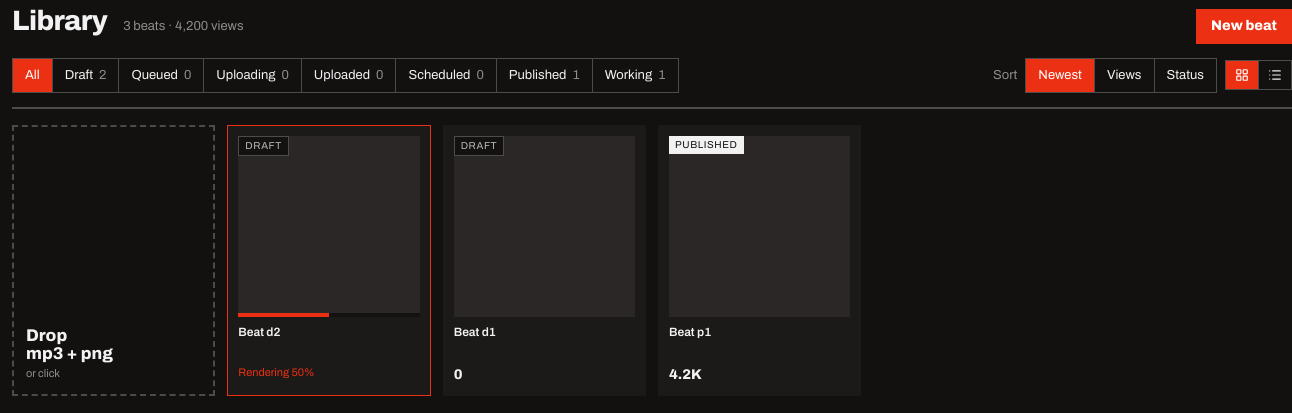
the status filter carries its counts and narrows the grid
expect the radio button labelled "Draft 2" is shown: met, box [52,59,118,92]
expect the number of links "Draft Beat d2 Rendering 50%" is 3: met, box [227,125,431,396]; [443,125,646,396]; [658,125,861,396]
What coordinates should you click on to do the following:
click the 1st radio button labelled "Working 1"
I would click on:
 (635, 75)
Its box is [592,59,678,92].
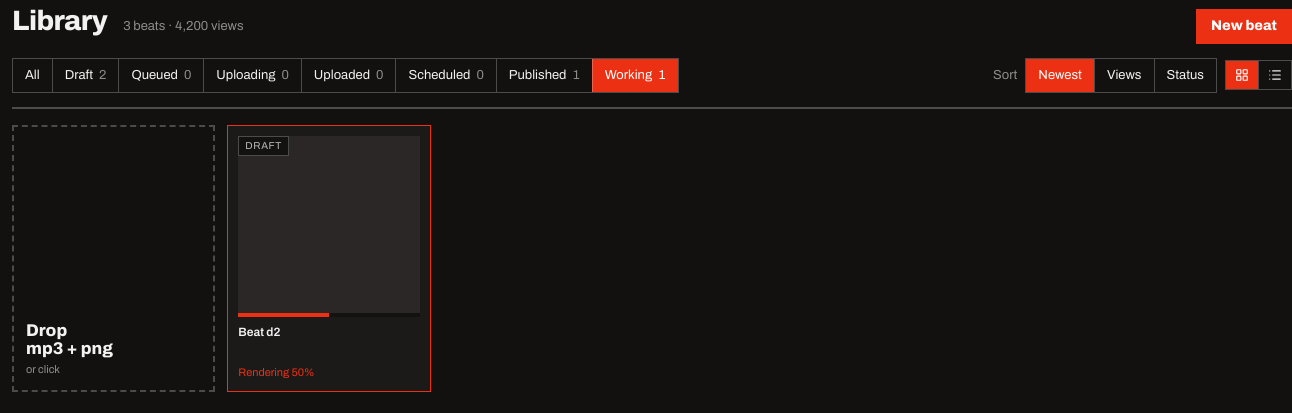
expect the number of links "Draft Beat d2 Rendering 50%" is 1: met, box [227,125,431,392]
